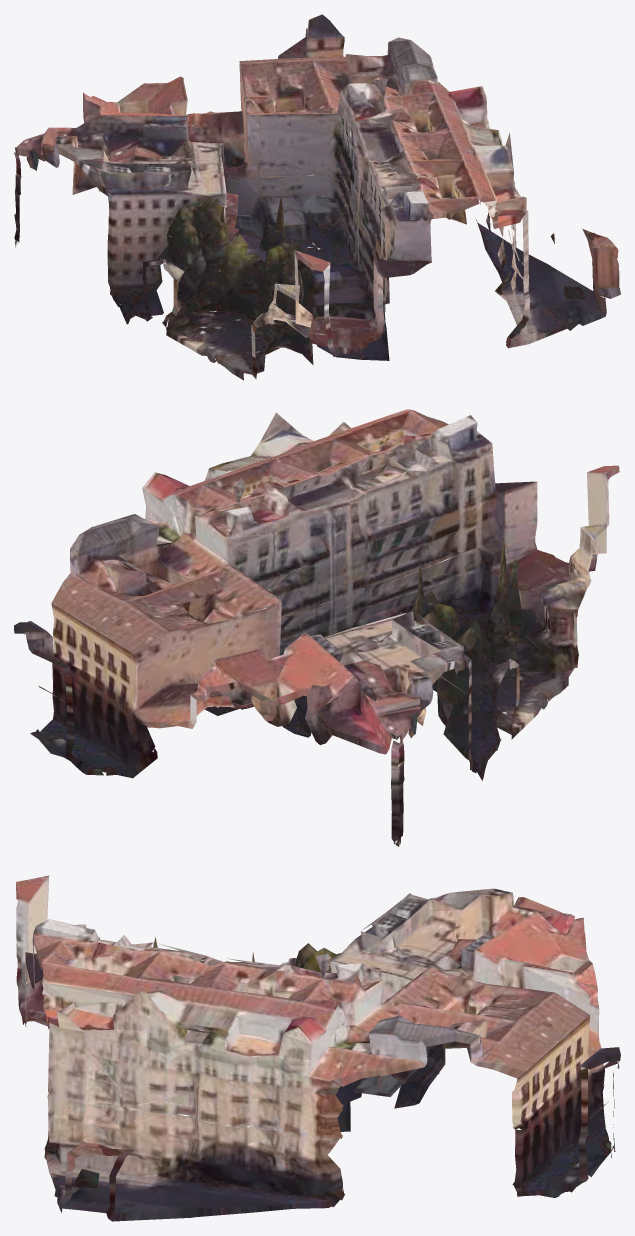
3 renders of one model, top to bottom at view 1: azimuth 30°, elevation 25°; view 2: azimuth 150°, elevation 25°; view 3: azimuth 270°, elevation 25°, orthographic. The views are drawn at different scales.
Parts seen in each view (by area): view 1: Mesh_0; view 2: Mesh_0; view 3: Mesh_0.
Boxes of the visible parts, <box> form: Mesh_0: <box>14,14,620,380</box>; Mesh_0: <box>14,409,619,846</box>; Mesh_0: <box>16,875,620,1221</box>.
Bounding box in the file's own units: 66.6 × 34.01 × 82.58.
1 material, 1 textured.
